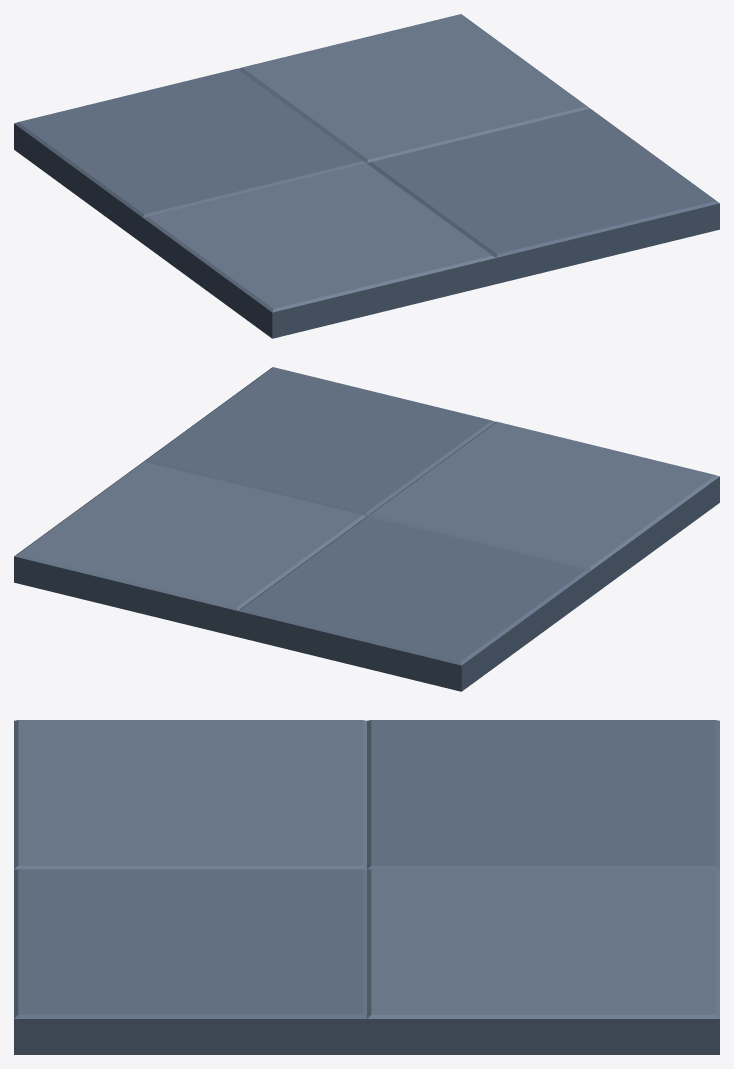
File: boden_teppich_b.glb
The picture shows the model from 3 angles, top to bottom: view 1: azimuth 30°, elevation 25°; view 2: azimuth 150°, elevation 25°; view 3: azimuth 270°, elevation 25°; orthographic projection. The views are drawn at different scales.
Visible parts, largest first — view 1: boden_teppich_b; view 2: boden_teppich_b; view 3: boden_teppich_b.
Boxes of the visible parts, box(x1,y1,x2,y2) form: boden_teppich_b: box(14, 14, 719, 338); boden_teppich_b: box(14, 367, 719, 691); boden_teppich_b: box(14, 720, 719, 1054).
Size of the model in its own units: 1 by 0.06 by 1.
